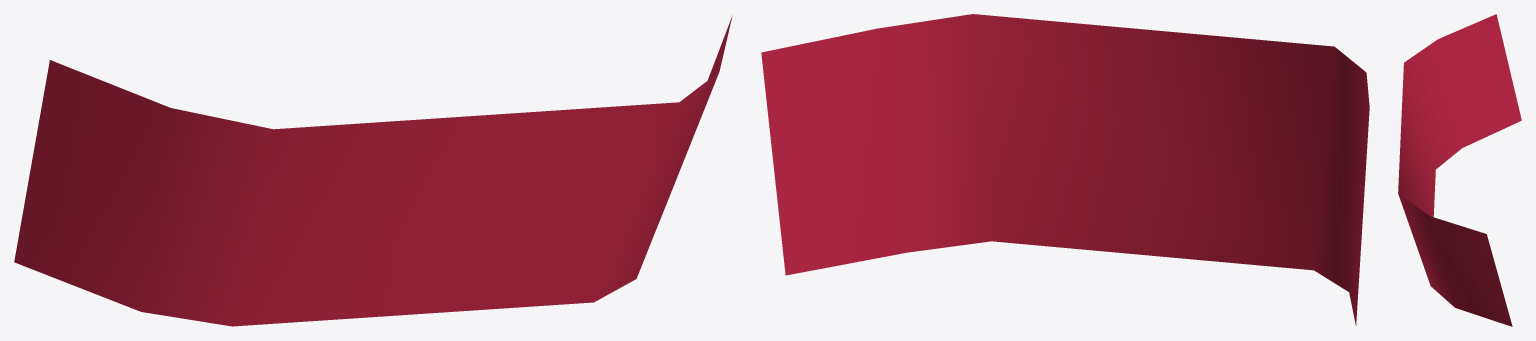
3 views of the same model, side by side, from view 1: azimuth 30°, elevation 25°; view 2: azimuth 150°, elevation 25°; view 3: azimuth 270°, elevation 25° (orthographic). The views are drawn at different scales.
Visible parts, largest first — view 1: ef_430; view 2: ef_430; view 3: ef_430.
Part boxes in pixels (left/top/right/bottom): ef_430: left=14, top=15, right=732, bottom=326; ef_430: left=761, top=14, right=1369, bottom=325; ef_430: left=1398, top=14, right=1521, bottom=326.
Bounding box in the file's own units: 0.7775 × 0.3511 × 0.2438.
Materials: 1 (1 with a texture image).
